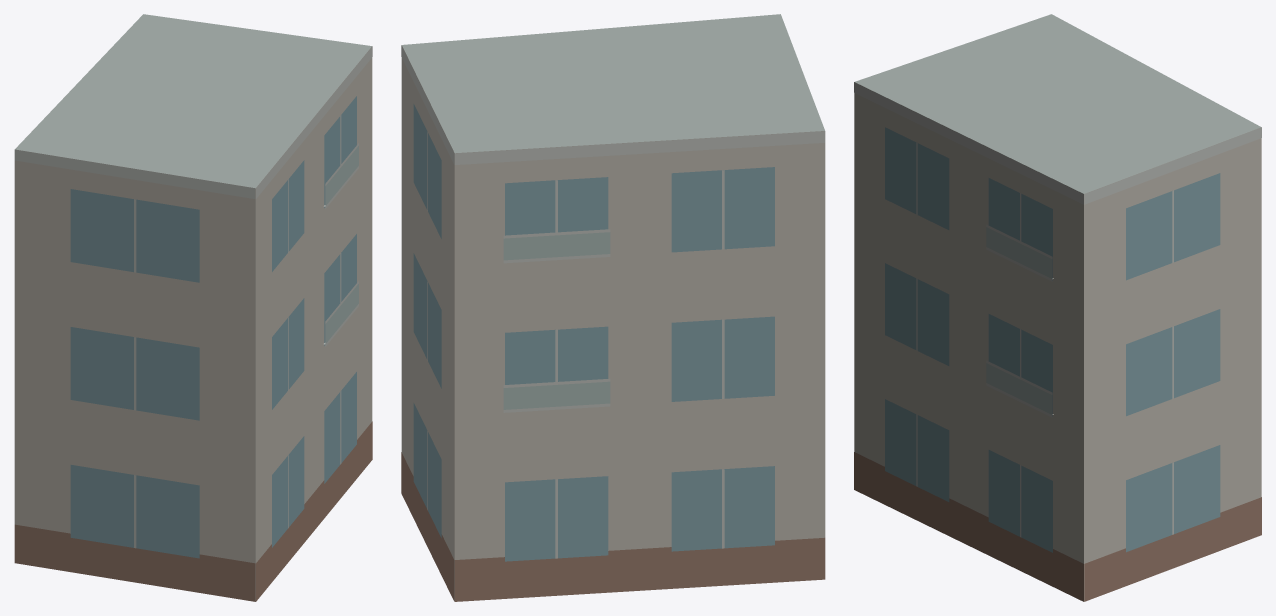
Rendered from survey-upis-32634218.glb.
3 renders of one model, left to right at view 1: azimuth 30°, elevation 25°; view 2: azimuth 150°, elevation 25°; view 3: azimuth 270°, elevation 25°, orthographic. The views are drawn at different scales.
Parts seen in each view (by area): view 1: survey-upis-32634218.tmp; view 2: survey-upis-32634218.tmp; view 3: survey-upis-32634218.tmp.
Boxes of the visible parts, left/top/right/bottom form: survey-upis-32634218.tmp: left=14, top=14, right=372, bottom=601; survey-upis-32634218.tmp: left=401, top=14, right=825, bottom=601; survey-upis-32634218.tmp: left=854, top=14, right=1261, bottom=601.
Size of the model in its own units: 8.67 by 9.15 by 8.29.
